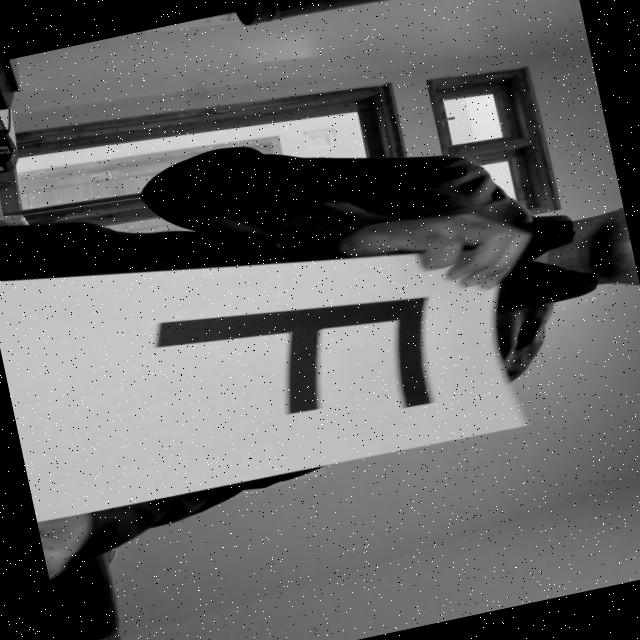f: (112, 256, 471, 474)
